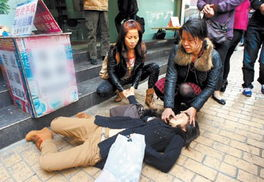fall: (25, 100, 206, 179)
